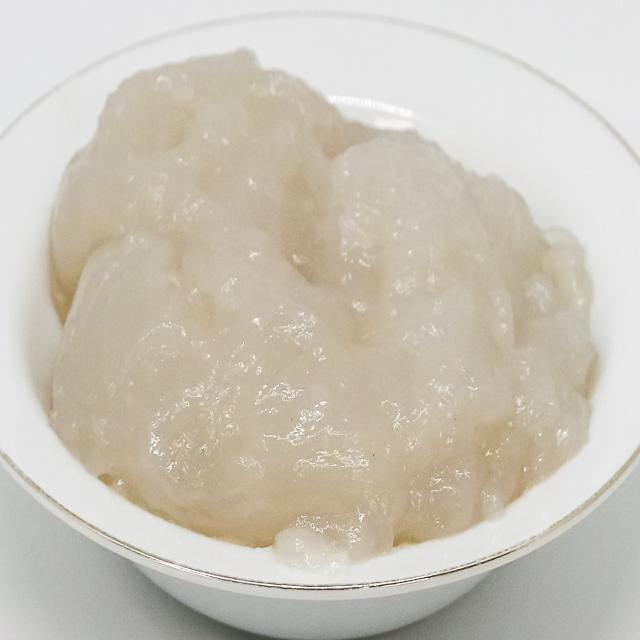Papeda: (31, 29, 615, 582)
